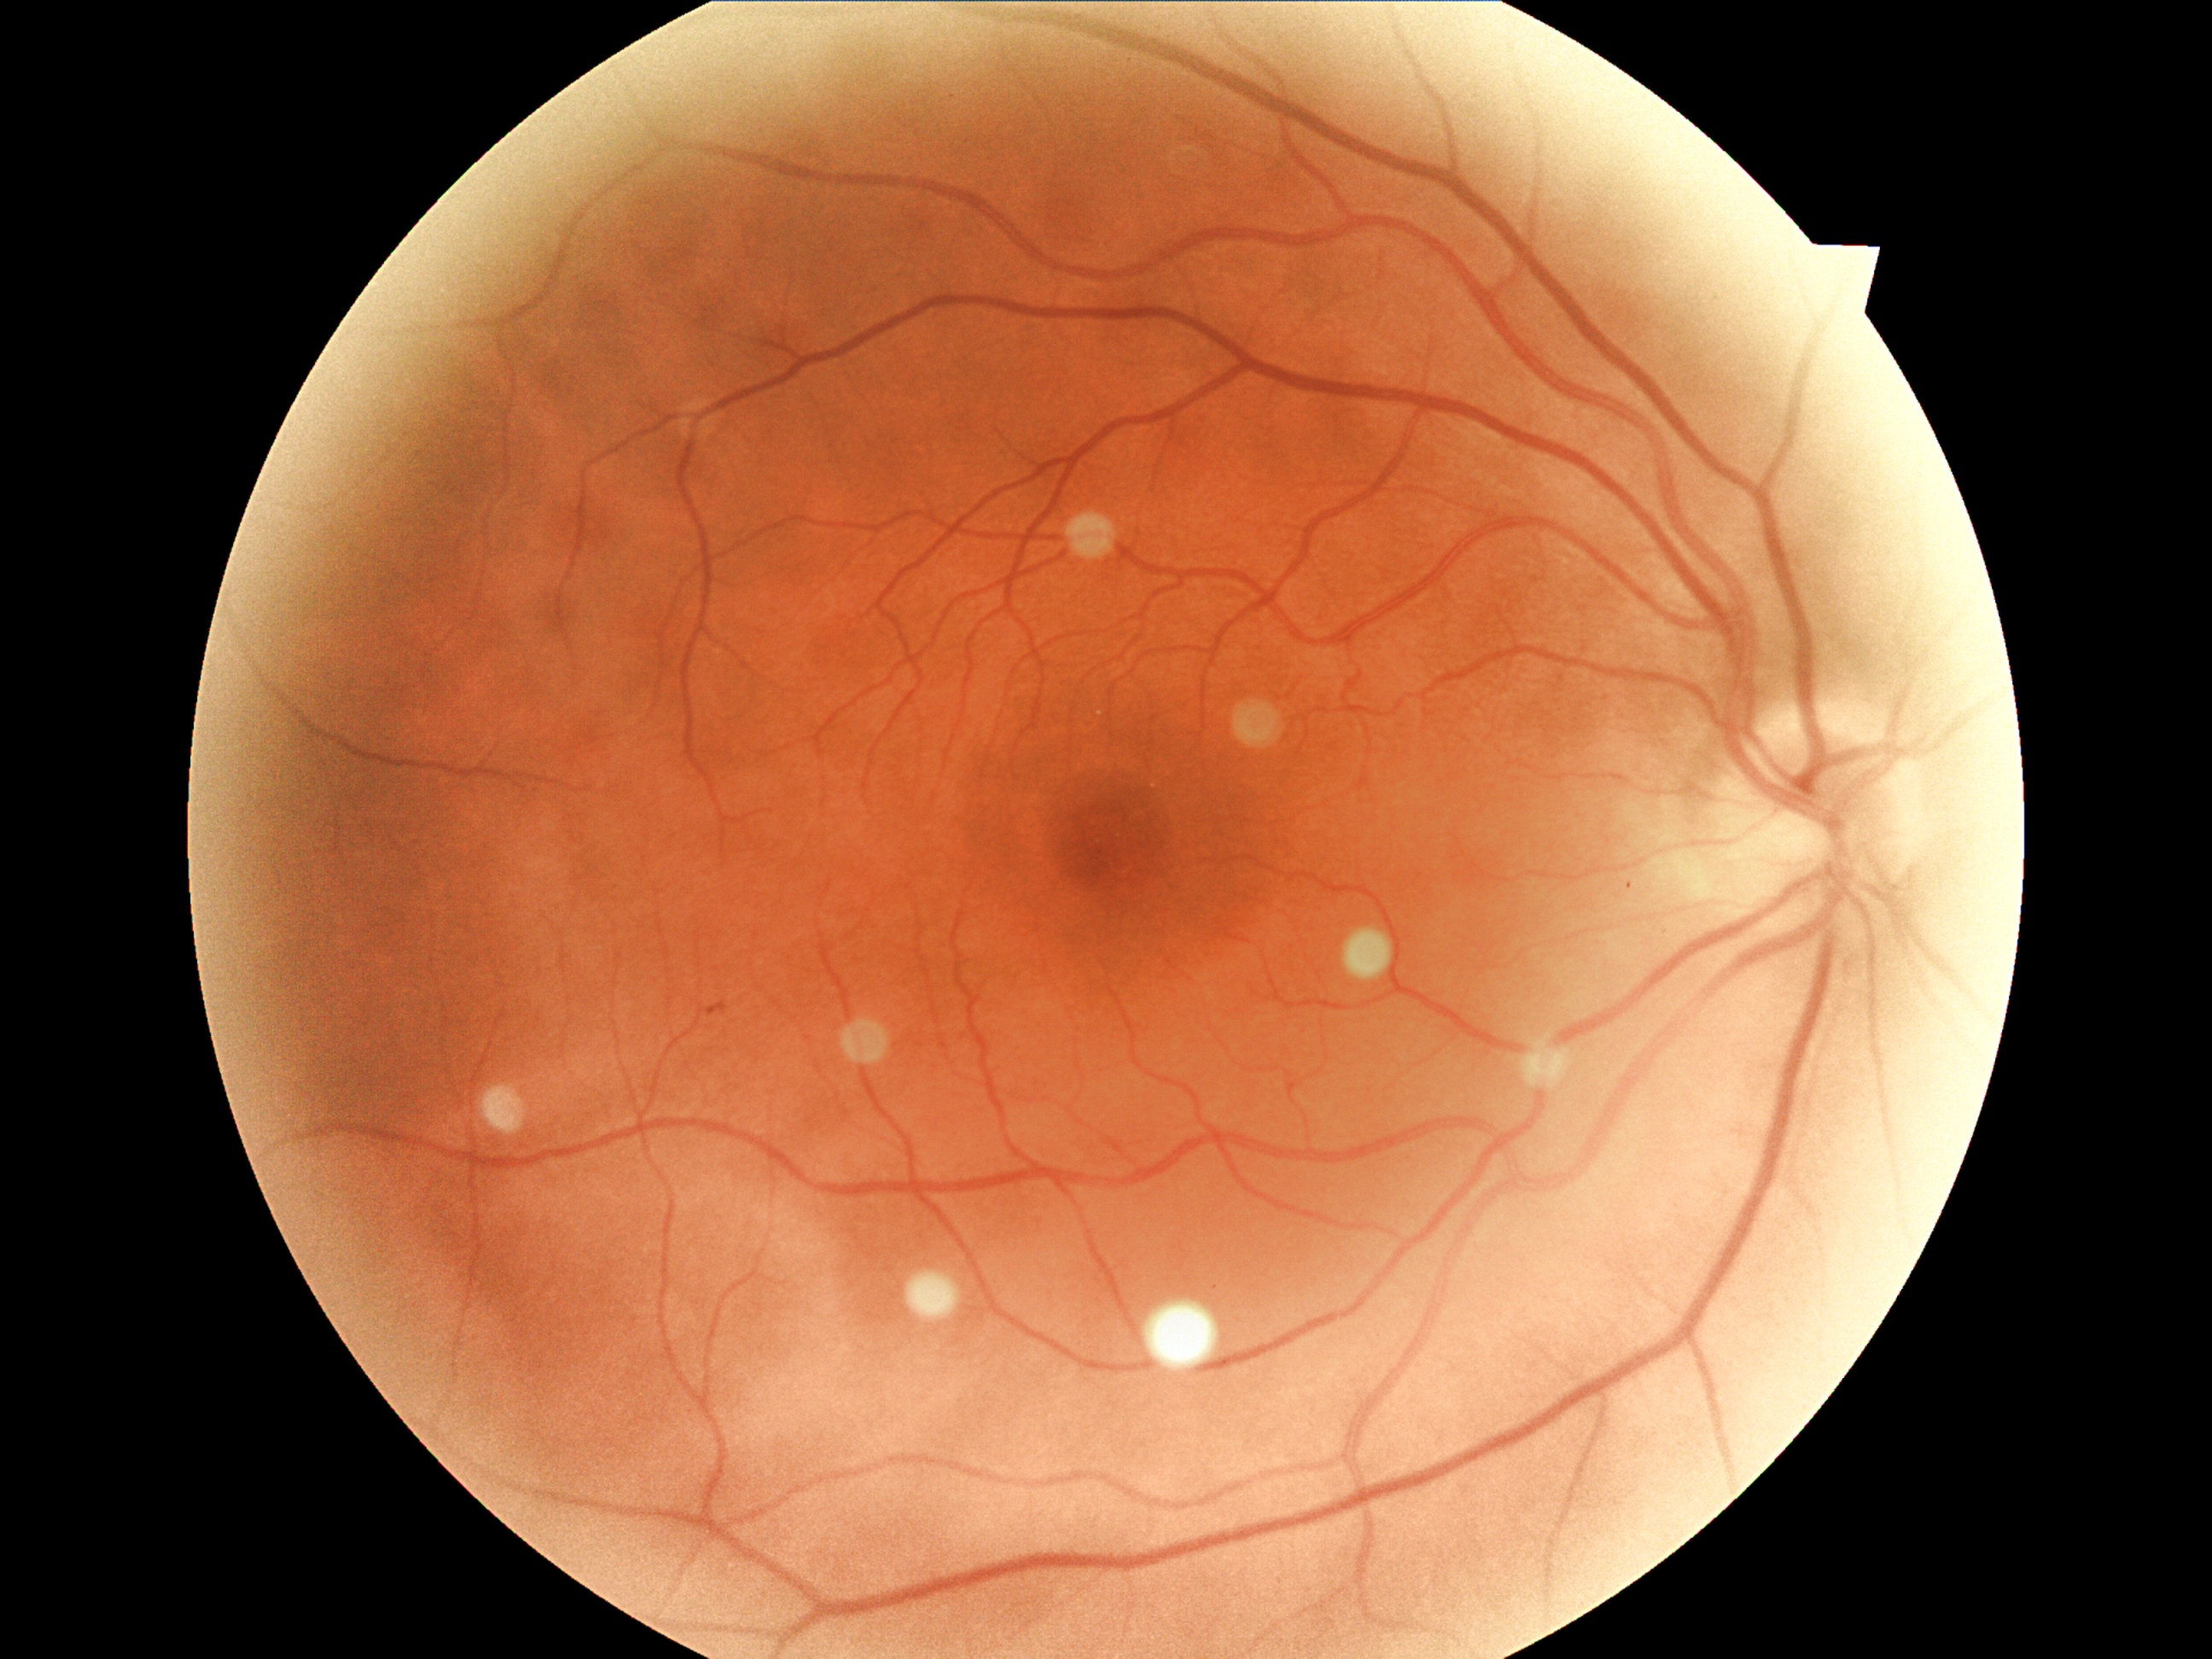Fovea: (1017, 739, 1207, 945)
OD: (1695, 695, 1956, 950)
